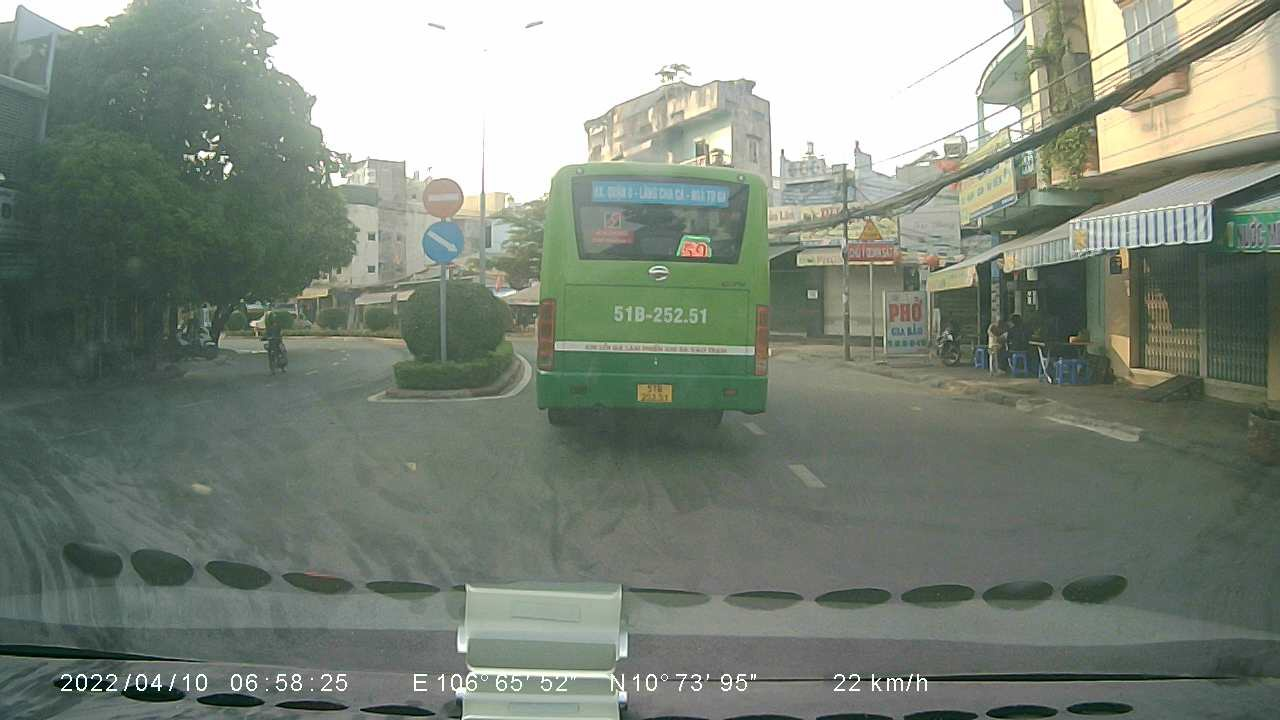Cam di nguoc chieu: (422, 172, 467, 216)
Huong di phai re phai: (421, 219, 465, 261)
